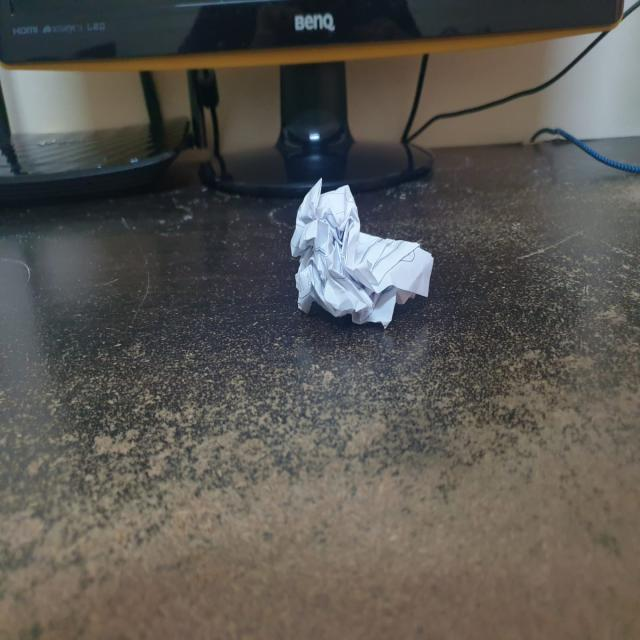Paper: (290, 179, 428, 325)
